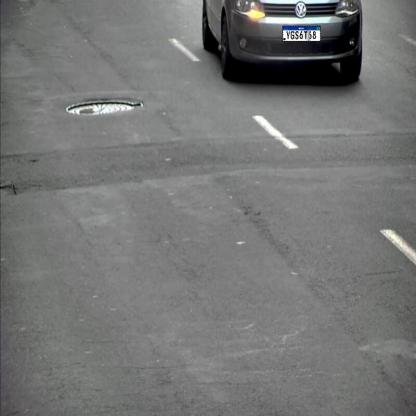PlacaM: (282, 26, 321, 42)
